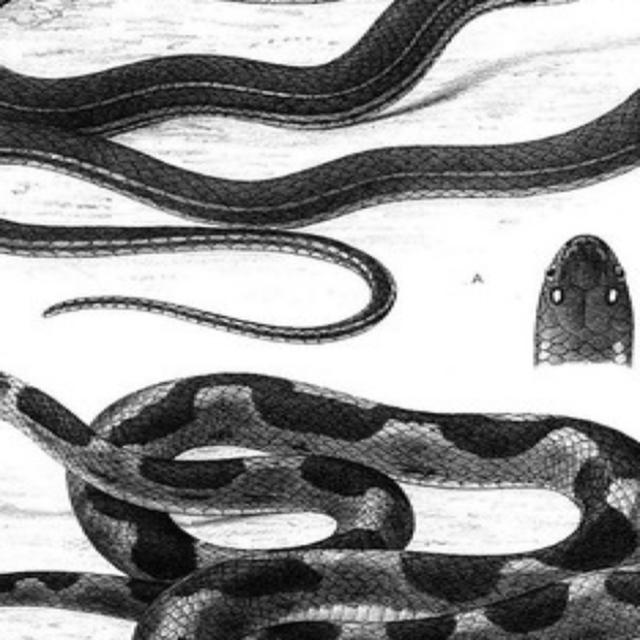Snake: (0, 0, 640, 342), (0, 342, 640, 640)
